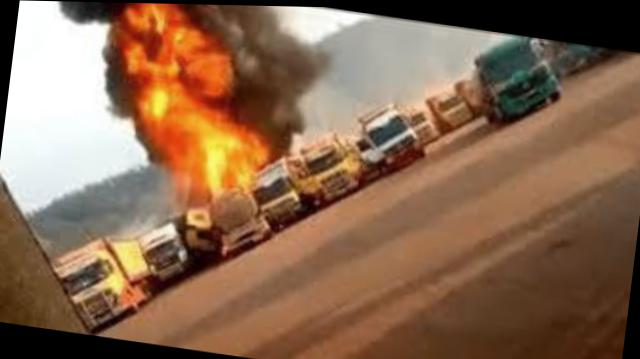fire: (67, 1, 312, 205)
